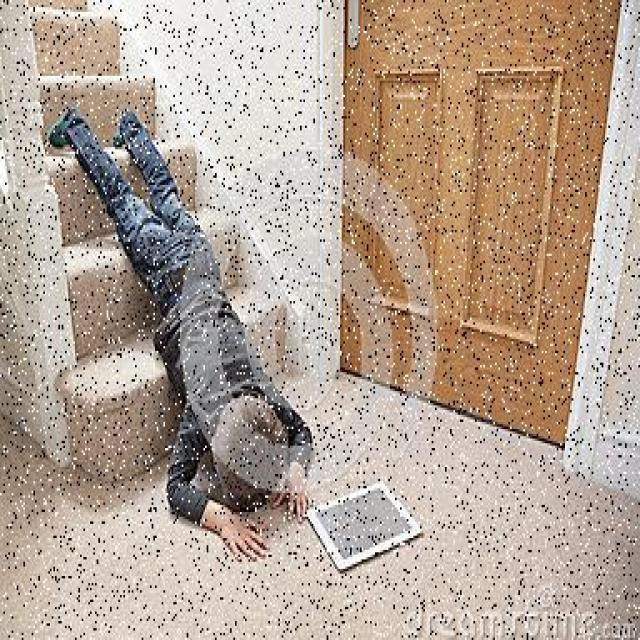fall: (64, 128, 308, 550)
